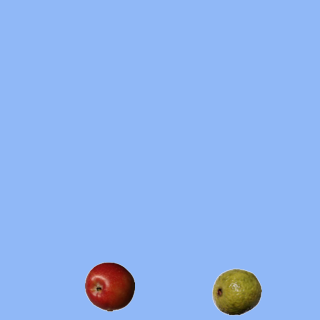Apple Braeburn: (84, 261, 134, 311)
Guava: (211, 266, 261, 316)
